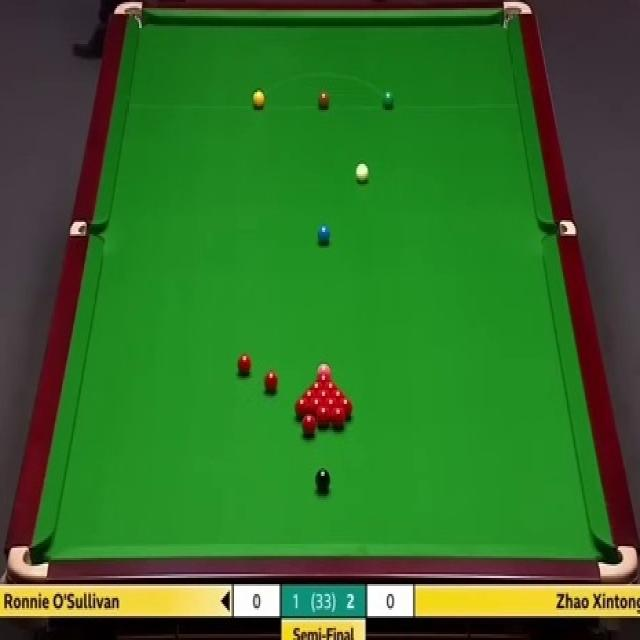pocket: (597, 542, 639, 582), (8, 543, 46, 583), (499, 0, 534, 31), (112, 0, 144, 32), (66, 220, 102, 235), (540, 220, 576, 234)
